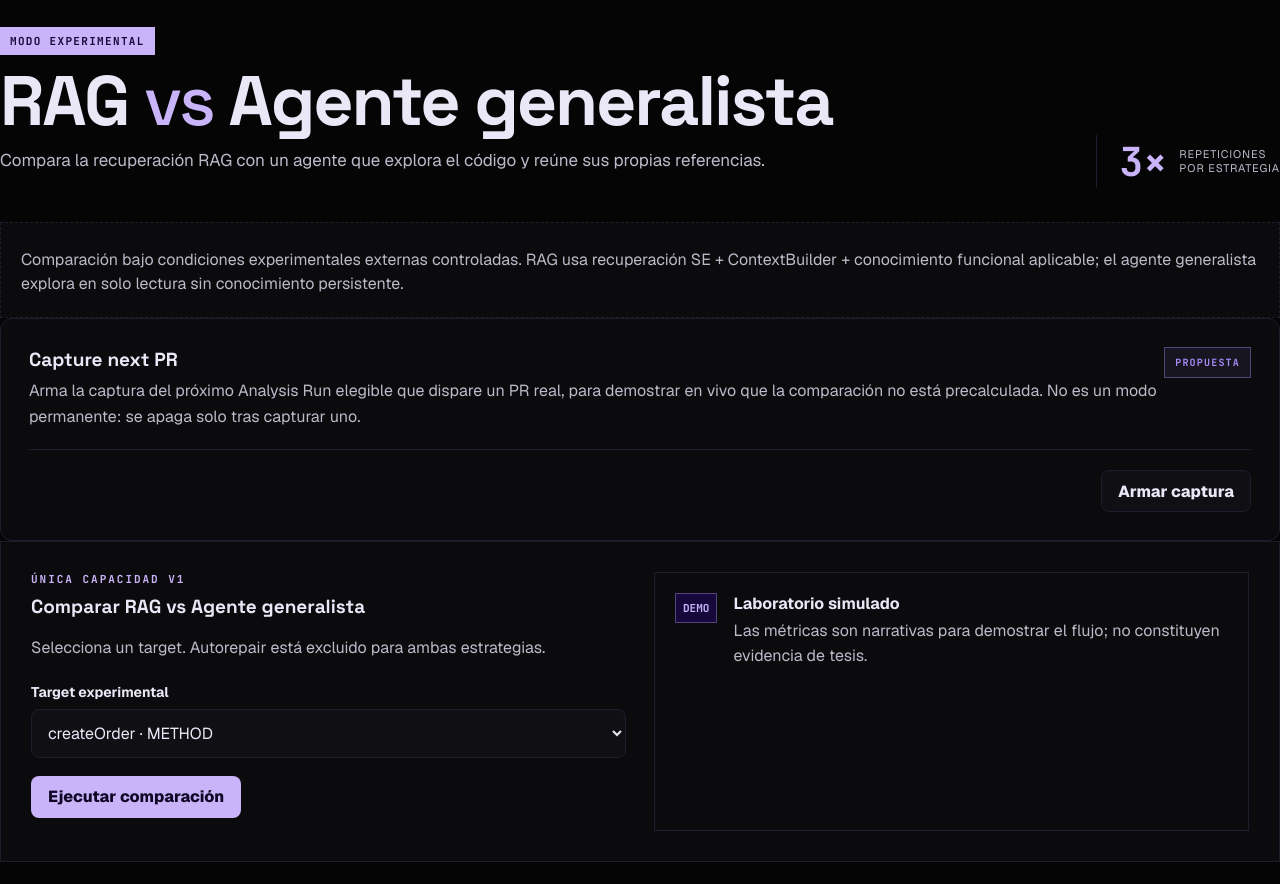
Scenario: Experiment: Writer puede ejecutar la comparación
The image size is (1280, 884).
Click the button "Ejecutar comparación" at (136, 797), box [31, 776, 241, 818]
(page scrolled)
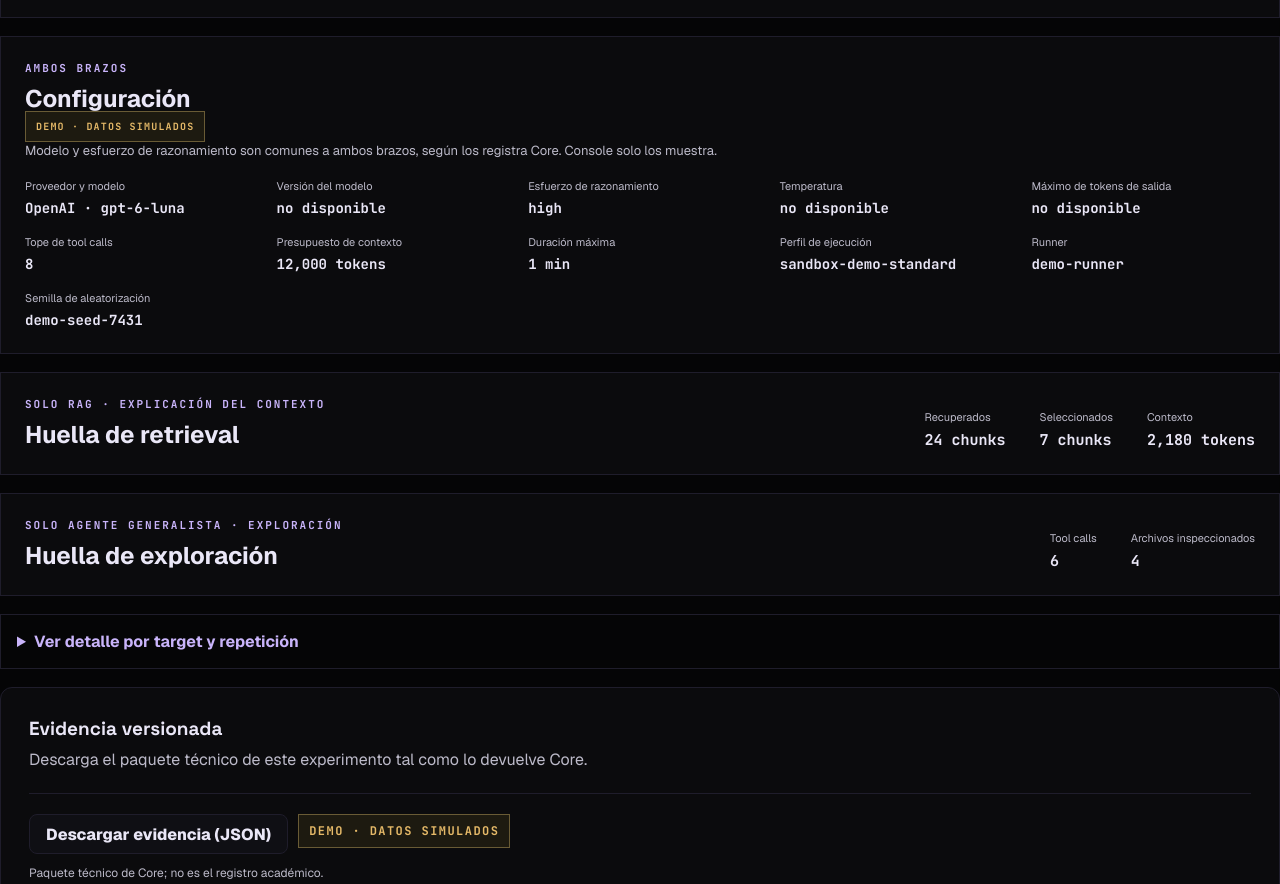
Expected: the heading "Huella de retrieval" is shown, [25, 420, 239, 450]
